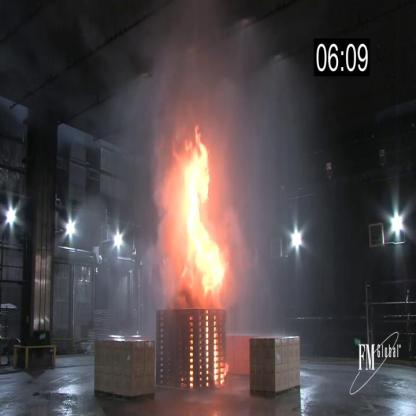fire: (176, 127, 224, 300), (217, 358, 231, 382)
